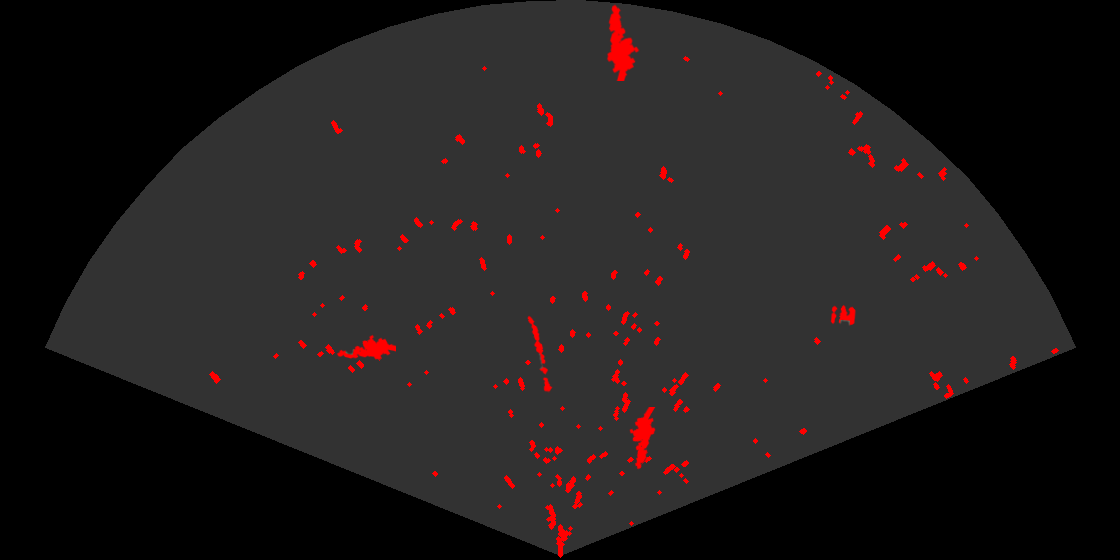ball: (829, 303, 857, 327)
chain: (526, 314, 554, 393)
frogman: (605, 3, 641, 81), (628, 407, 657, 471), (335, 333, 396, 361)
